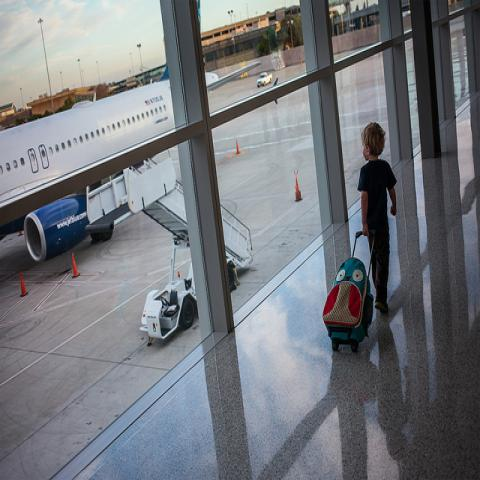truck: (257, 72, 273, 88)
